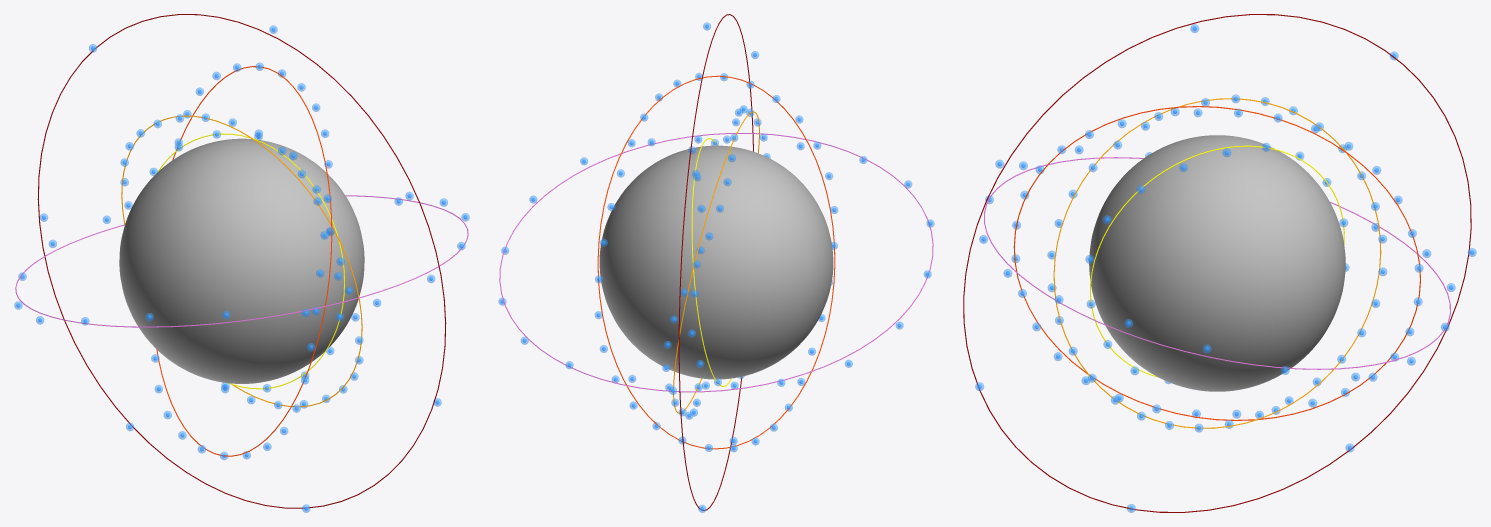
3 renders of one model, left to right at view 1: azimuth 30°, elevation 25°; view 2: azimuth 150°, elevation 25°; view 3: azimuth 270°, elevation 25°, orthographic. The views are drawn at different scales.
Visible parts, largest first — view 1: Ts, object 228, object 191, object 126, object 61, object 24; view 2: Ts, object 191, object 126, object 228, object 61; view 3: Ts, object 228, object 126, object 61, object 191, object 24.
Part boxes in pixels (x1,y1,x2,y2): Ts: (119, 138, 364, 383); object 228: (37, 14, 446, 508); object 191: (15, 195, 468, 327); object 126: (156, 66, 332, 456); object 61: (121, 115, 362, 407); object 24: (156, 133, 344, 389); Ts: (599, 145, 833, 379); object 191: (499, 133, 933, 392); object 126: (597, 75, 835, 449); object 228: (678, 14, 753, 510); object 61: (673, 111, 759, 413); Ts: (1089, 135, 1345, 391); object 228: (963, 14, 1471, 512); object 126: (1013, 106, 1420, 420); object 61: (1053, 98, 1381, 428); object 191: (984, 157, 1450, 369); object 24: (1090, 145, 1344, 377).
Size of the model in its own units: 8.54 by 9.65 by 9.04.
